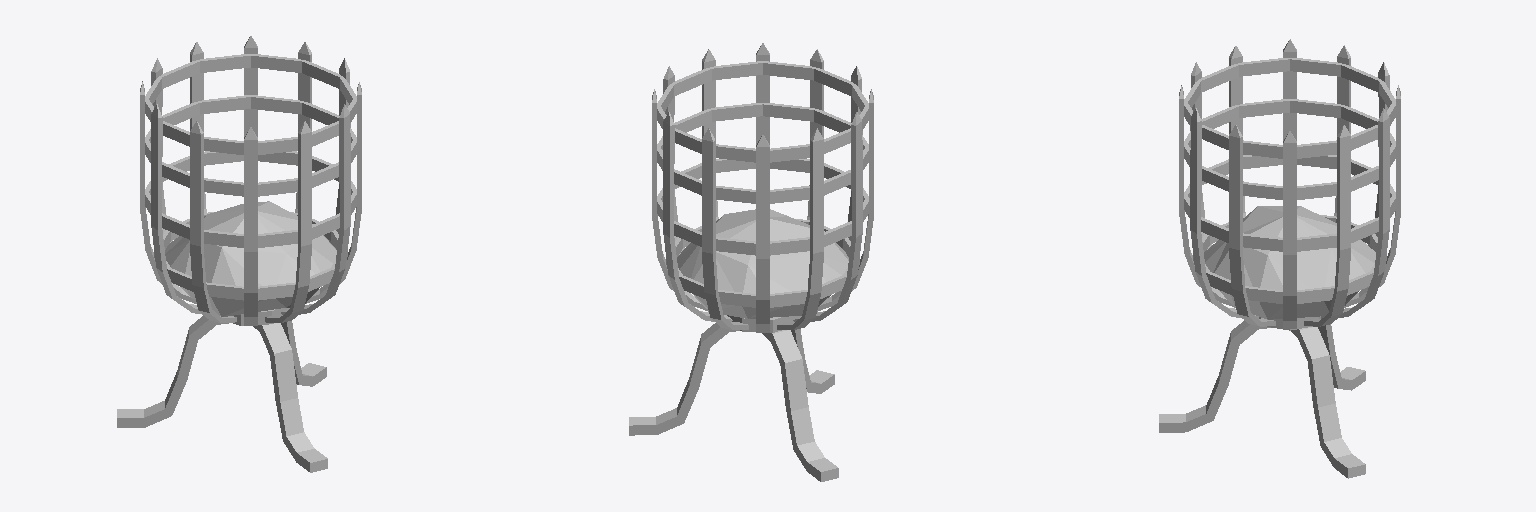
Rendered from brazier.obj.
3 renders of one model, left to right at view 1: azimuth 30°, elevation 25°; view 2: azimuth 150°, elevation 25°; view 3: azimuth 270°, elevation 25°, orthographic.
Parts seen in each view (by area): view 1: Brazier01; view 2: Brazier01; view 3: Brazier01.
Boxes of the visible parts, box(x1,y1,x2,y2) form: Brazier01: box(117, 36, 361, 472); Brazier01: box(629, 43, 873, 481); Brazier01: box(1159, 39, 1400, 478).
Size of the model in its own units: 0.9232 by 1.44 by 0.926.